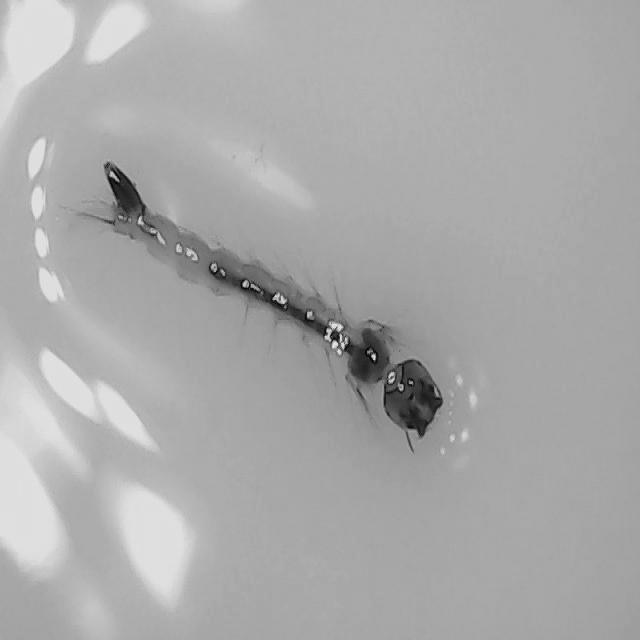larvas: (90, 164, 445, 434)
